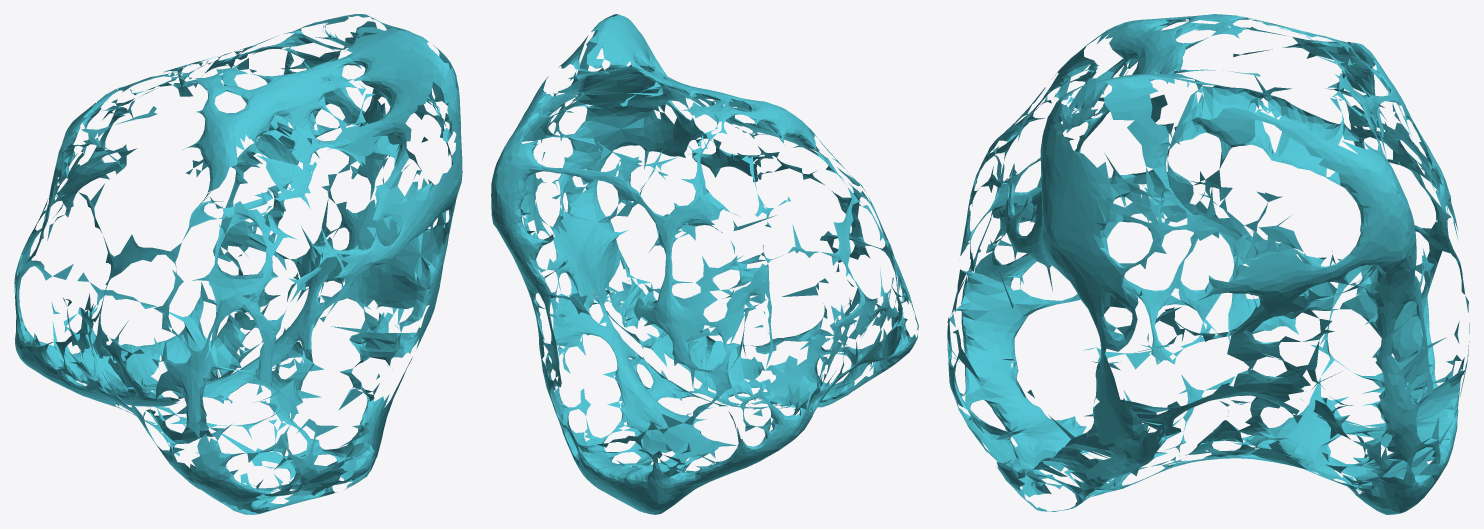
The picture shows the model from 3 angles, left to right: view 1: azimuth 30°, elevation 25°; view 2: azimuth 150°, elevation 25°; view 3: azimuth 270°, elevation 25°; orthographic projection. The views are drawn at different scales.
Visible parts, largest first — view 1: Renderer Node; view 2: Renderer Node; view 3: Renderer Node.
Boxes of the visible parts, x1,y1,x2,y2 form: Renderer Node: (14, 14, 462, 514); Renderer Node: (491, 14, 918, 514); Renderer Node: (947, 14, 1469, 514).
Bounding box in the file's own units: 0.572 × 0.6511 × 0.6042.
Materials: 1 (1 with a texture image).
